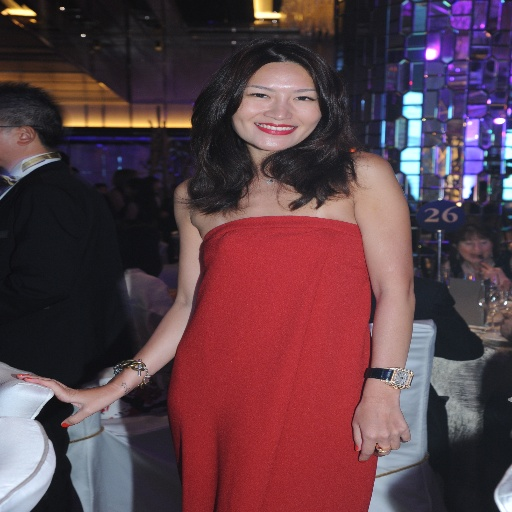hand: (358, 343, 420, 473), (9, 372, 126, 429), (478, 260, 510, 286)
